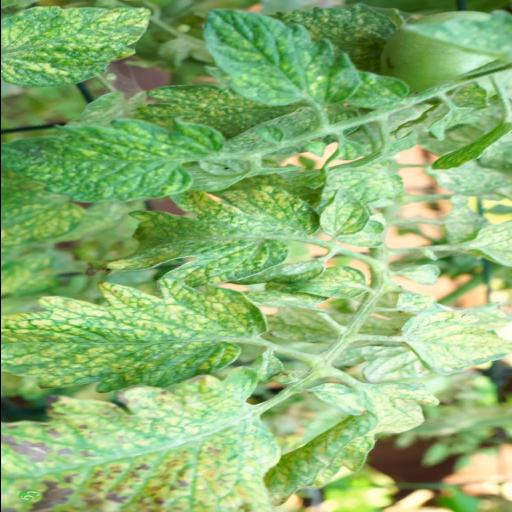Spider Mites: (0, 365, 282, 512), (0, 278, 264, 395), (262, 381, 444, 508), (97, 184, 323, 286), (0, 116, 230, 204), (202, 6, 358, 108), (0, 3, 162, 90), (396, 310, 512, 376), (284, 266, 370, 300), (317, 187, 373, 237), (304, 382, 368, 418)
